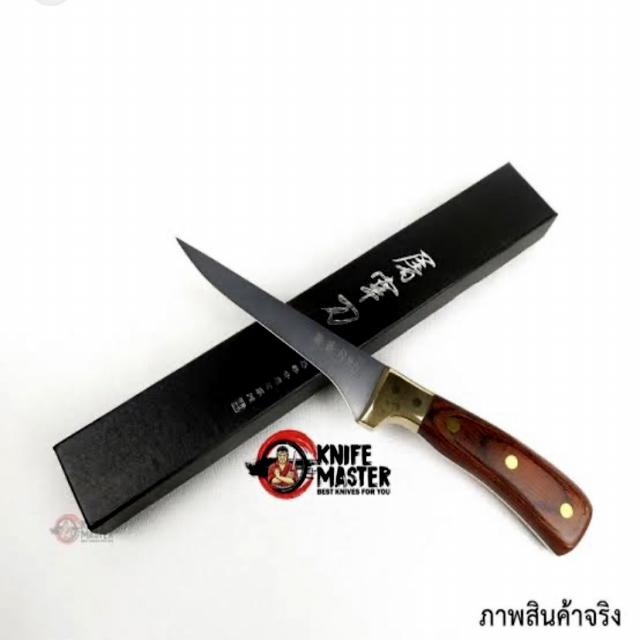knife: (163, 221, 596, 563)
